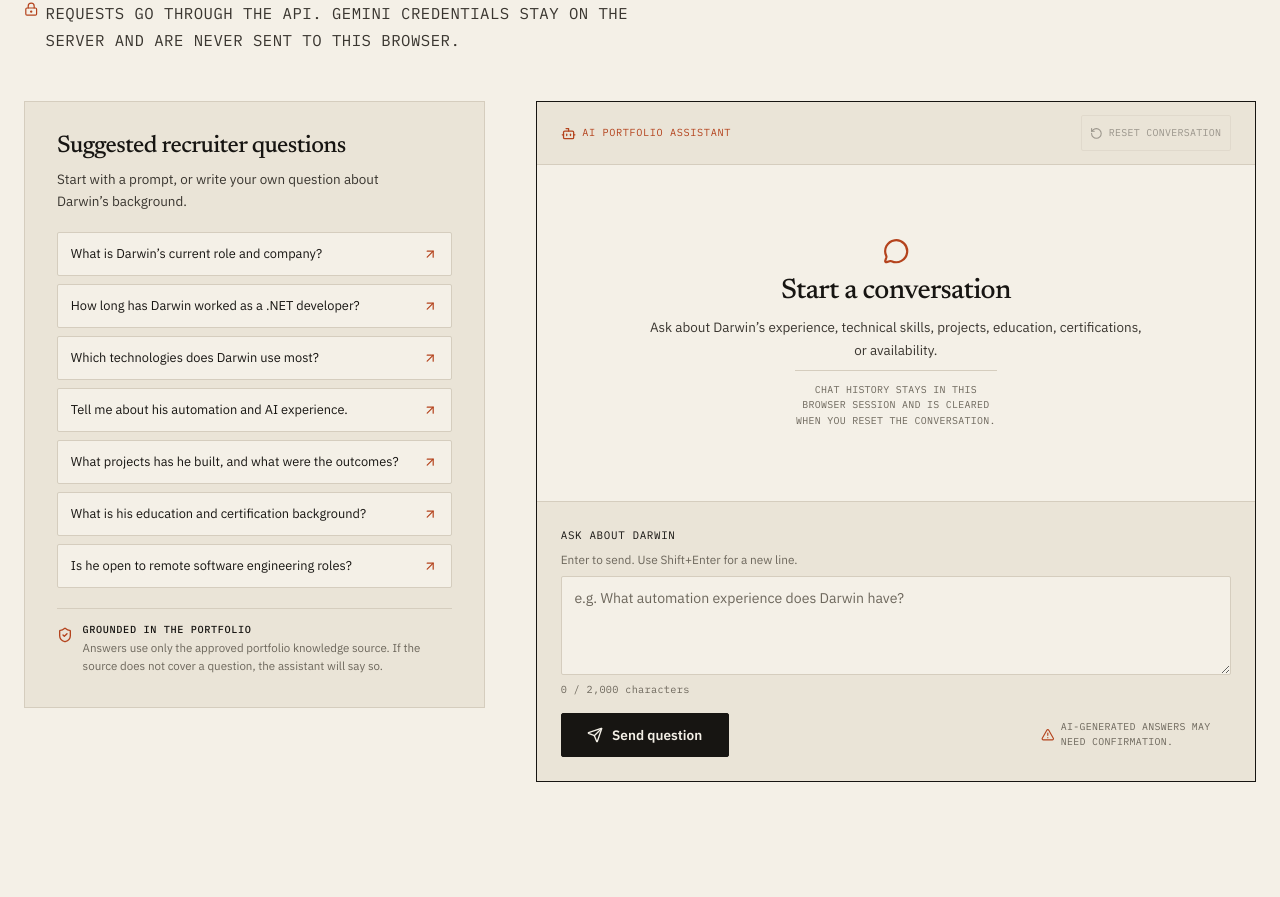
Test: PortfolioAssistantSection › sends prior conversation as bounded history and resets the chat
(page scrolled)
Type "Where does Darwin work?" into the text box with id "assistant-question" at (896, 625), box [561, 576, 1231, 675]
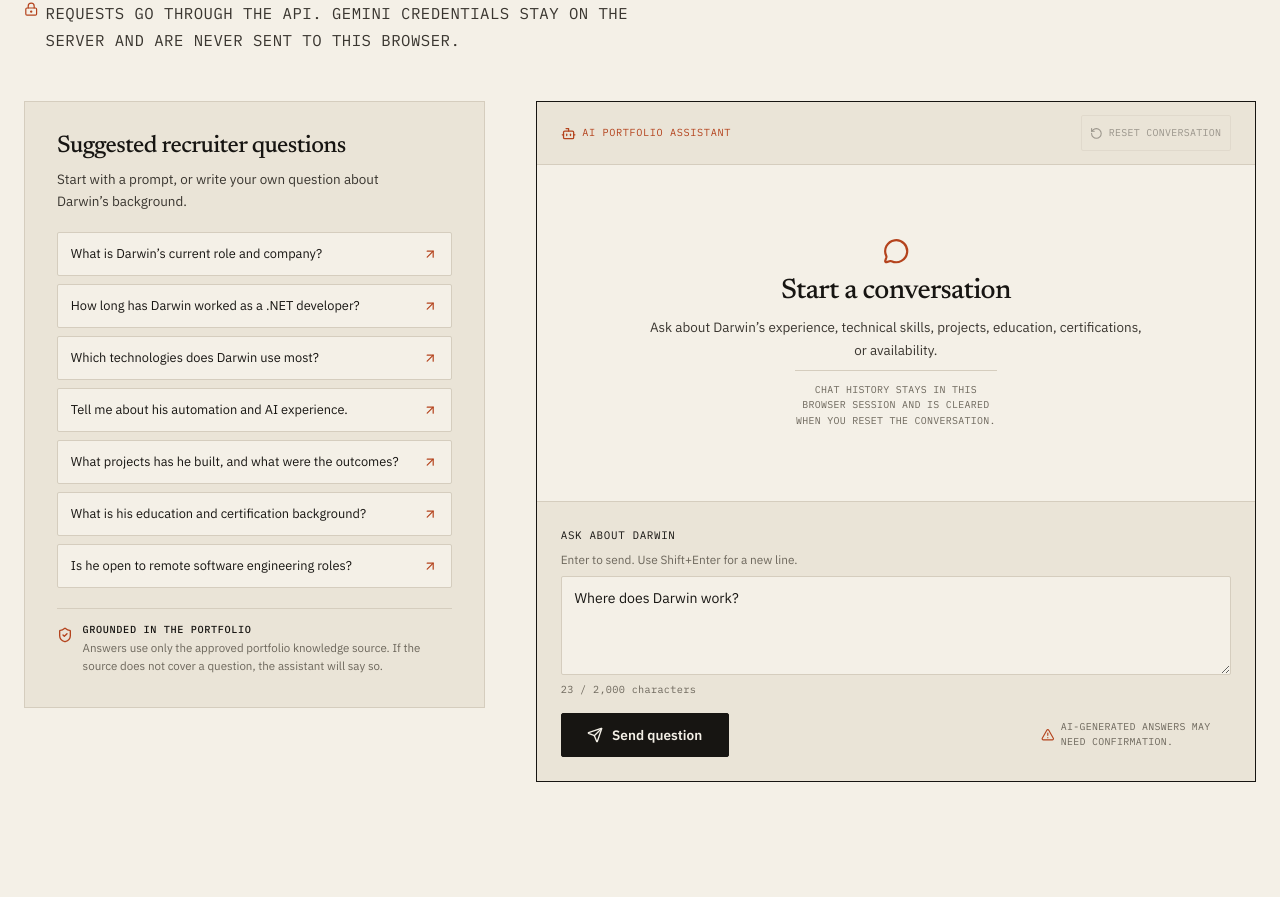
Submit the form, box [537, 501, 1255, 781]
(page scrolled)
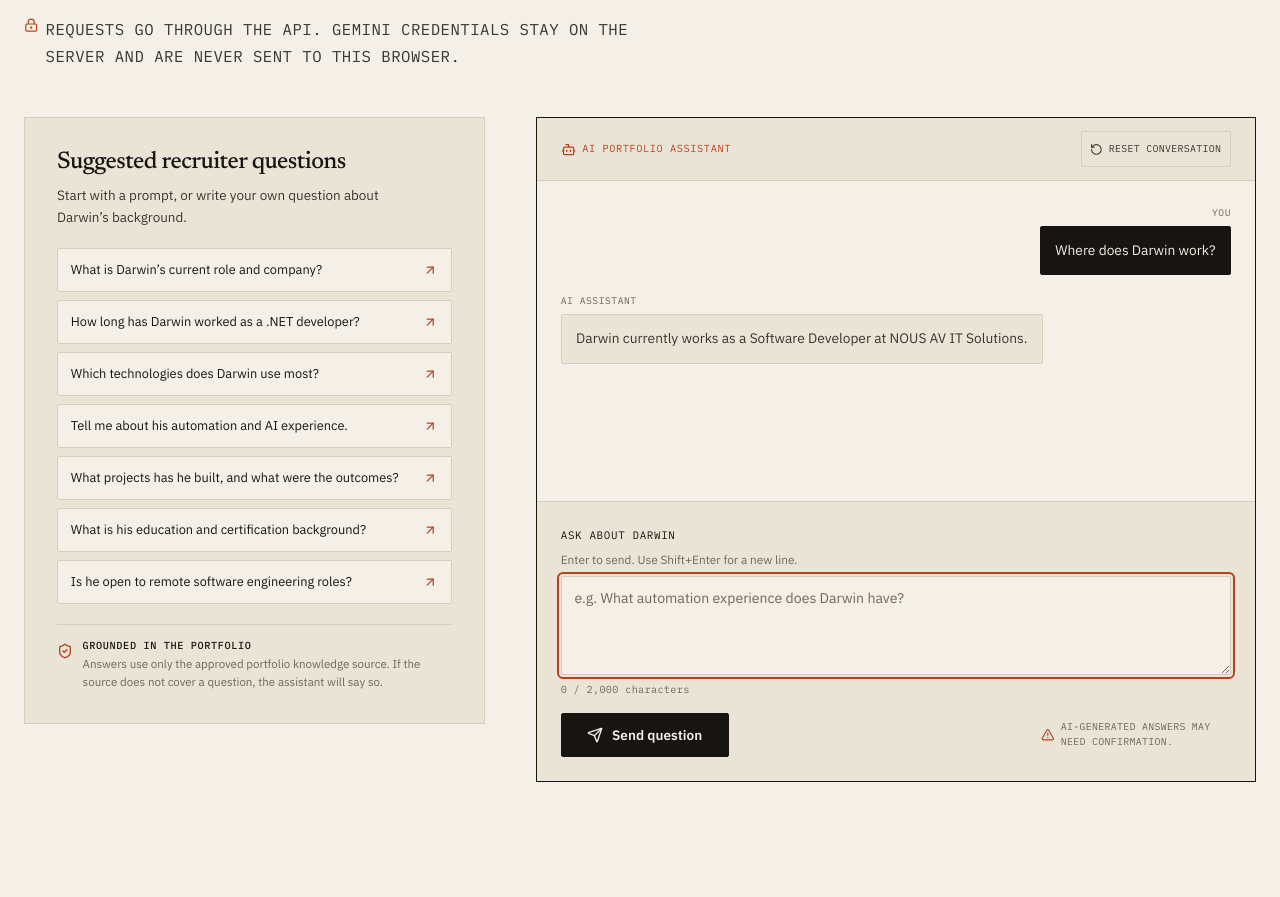
Type "What does he do there?" into the text box with id "assistant-question" at (896, 625), box [561, 576, 1231, 675]
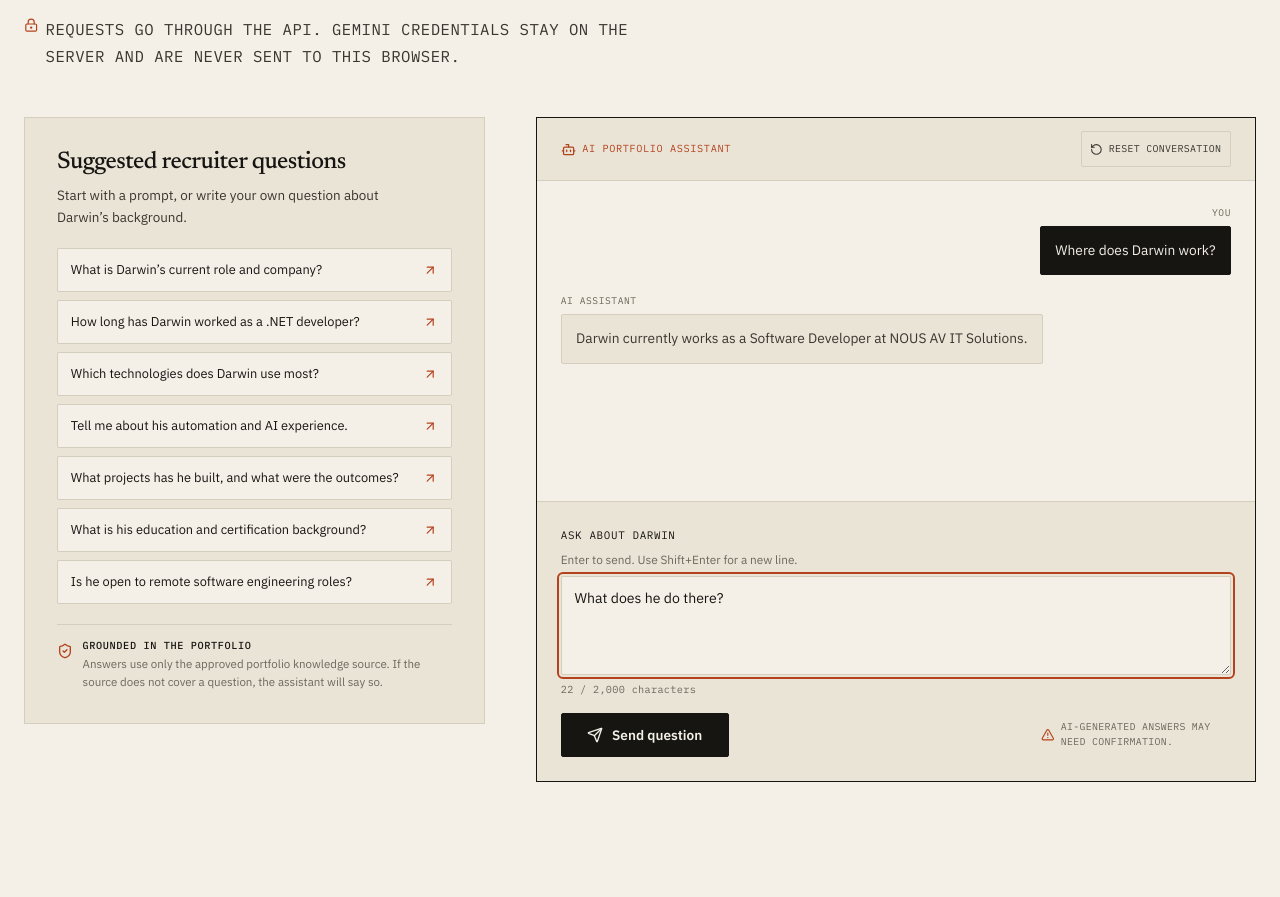
Submit the form, box [537, 501, 1255, 781]
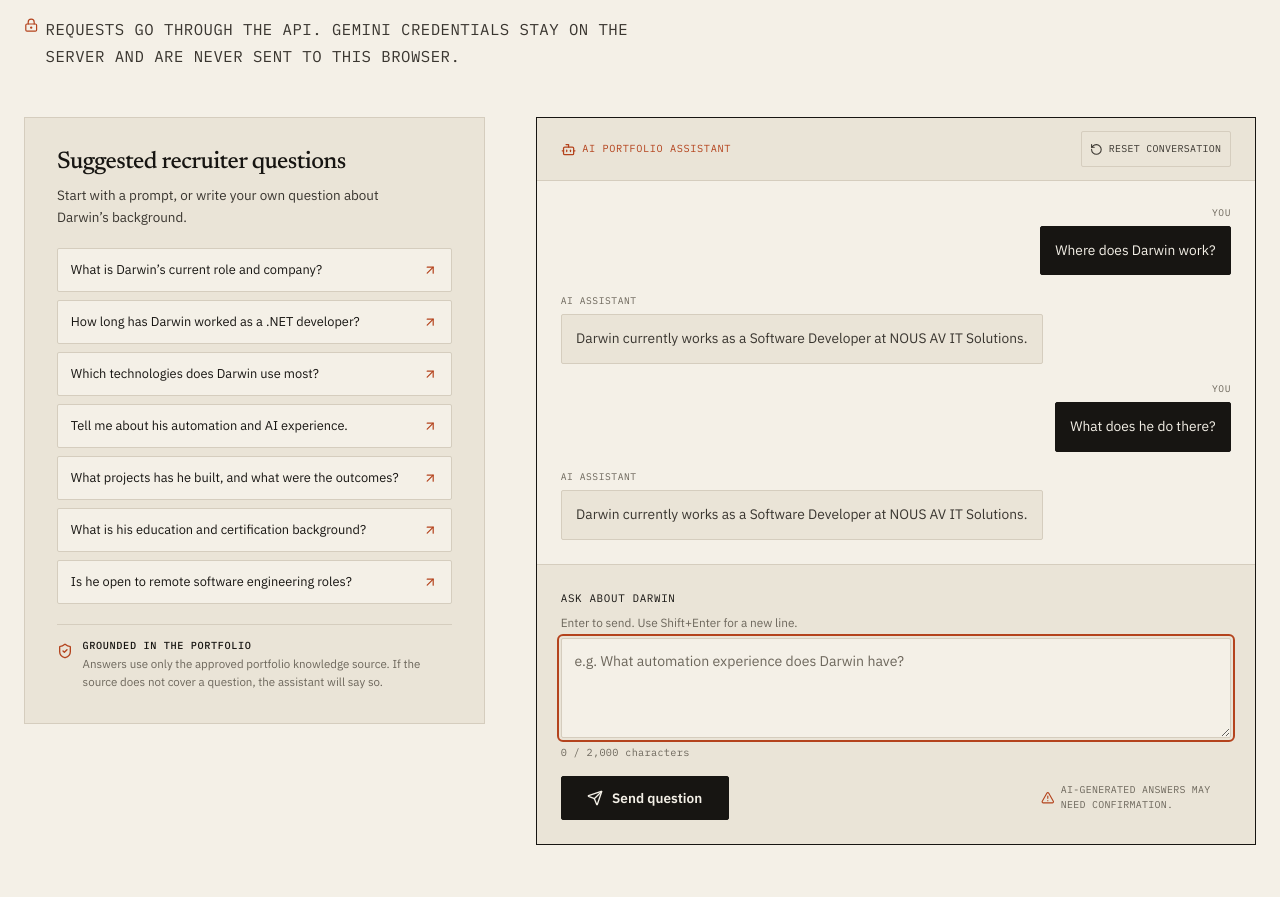
Click the button with class "assistant__reset" at (1156, 149), box [1081, 131, 1231, 167]
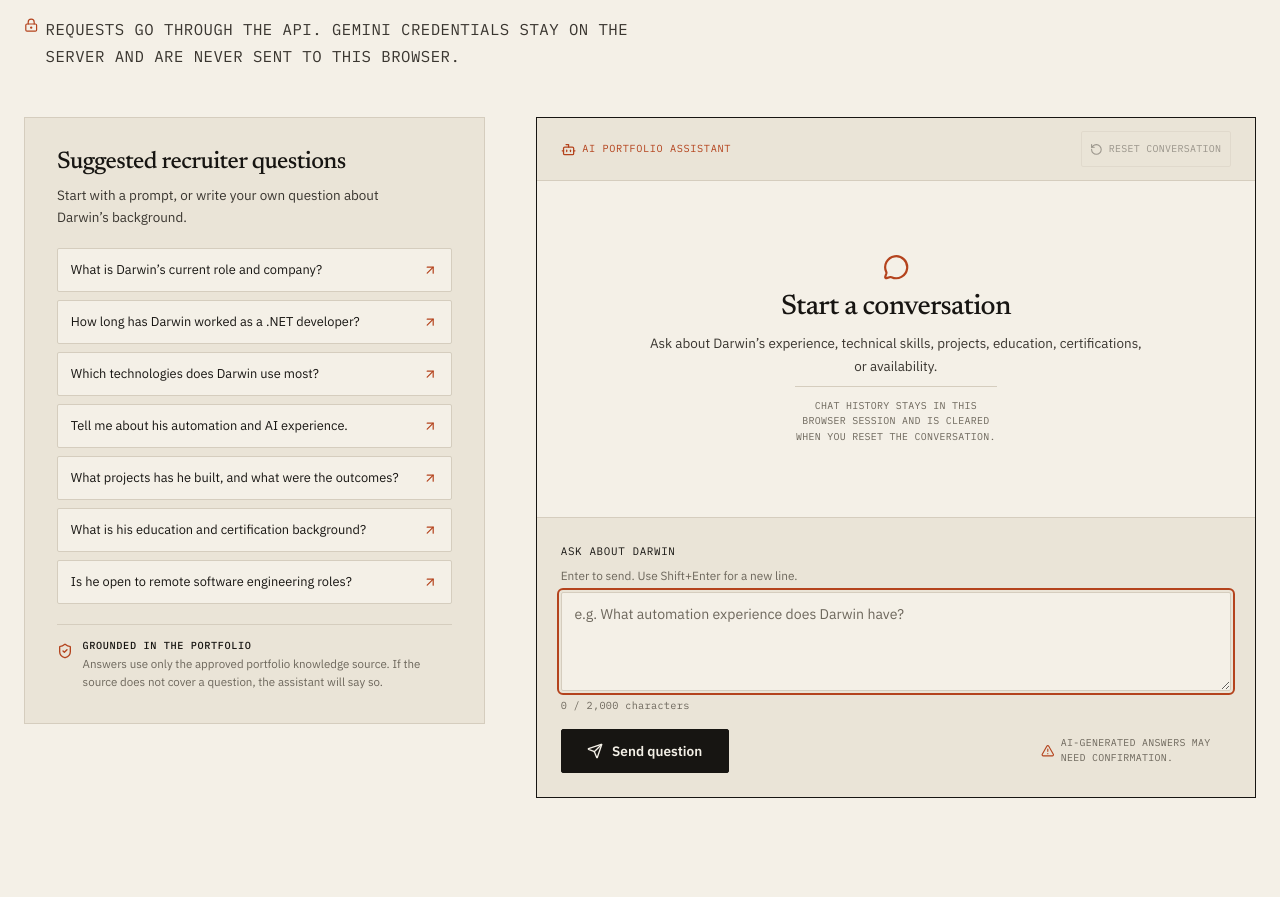
Check: the text box with id "assistant-question" is empty, box [561, 592, 1231, 691]
Check: the element with class "assistant__empty" shows "Start a conversation", box [781, 293, 1011, 321]
Check: the button with class "assistant__reset" is disabled, box [1081, 131, 1231, 167]
